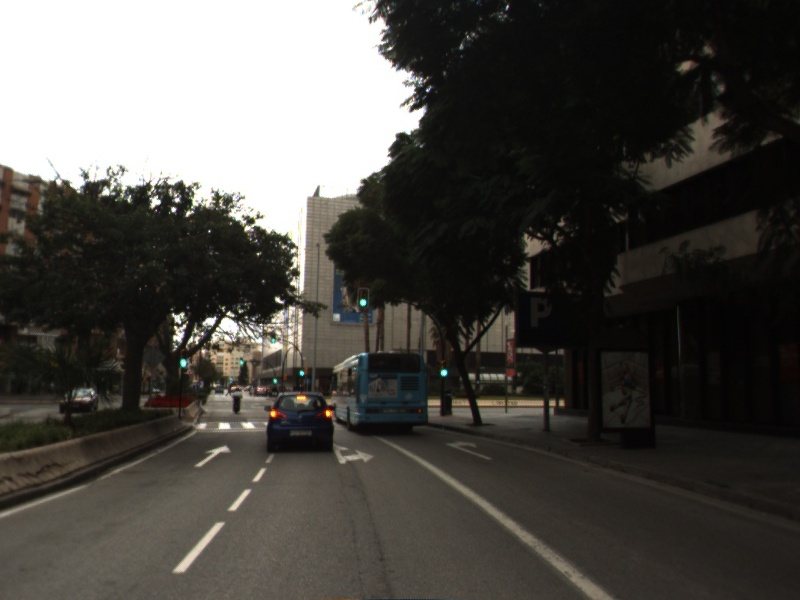RIGHT: (443, 437, 496, 463)
STRAIGHT: (192, 443, 234, 470)
STRAIGHT_RIGHT: (331, 441, 377, 466)
